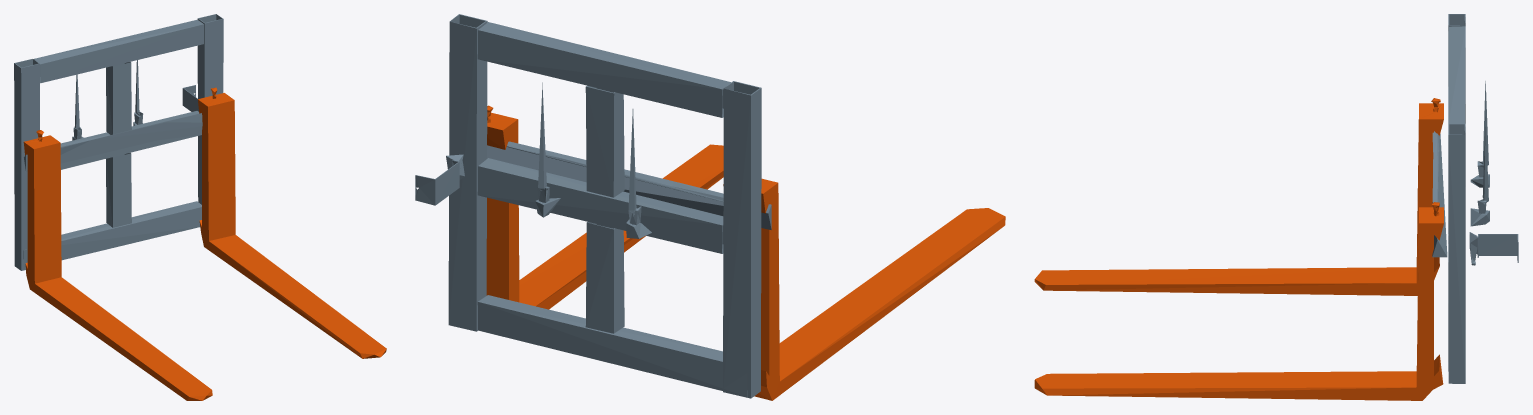
The model's file is forks.dae.
3 renders of one model, left to right at view 1: azimuth 30°, elevation 25°; view 2: azimuth 150°, elevation 25°; view 3: azimuth 270°, elevation 25°, orthographic. The views are drawn at different scales.
Parts seen in each view (by area): view 1: node; view 2: node; view 3: node.
Boxes of the visible parts, <box> form: node: <box>14,14,386,400</box>; node: <box>415,14,1005,400</box>; node: <box>1034,14,1518,400</box>.
Bounding box in the file's own units: 0.6104 × 1.02 × 0.6206.
